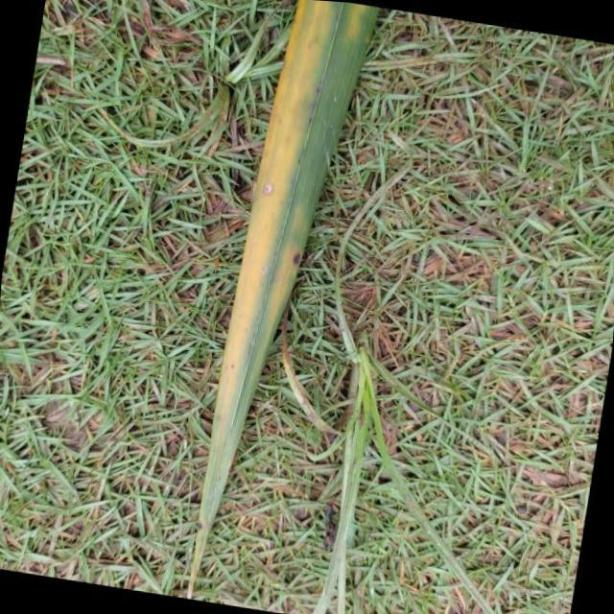Megnesium: (181, 0, 385, 614)
